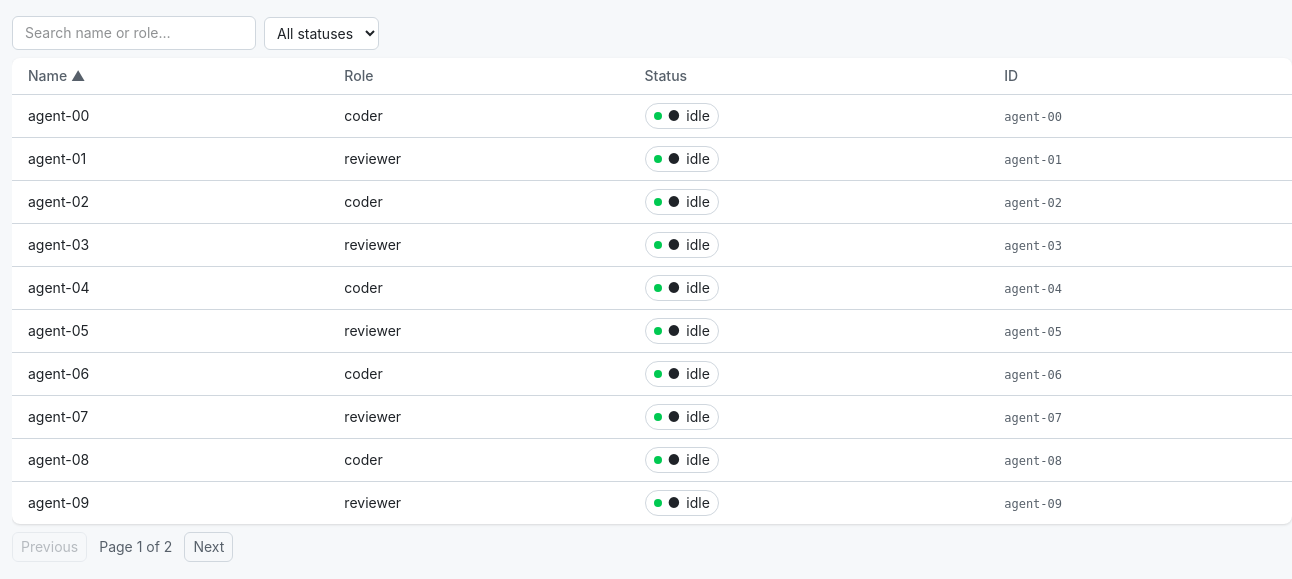
Test case: Table UX (w3-tables) › agents roster filters by search and caps pages at ten
Expected: the text "Page 1 of 2" is shown, [99,537,172,557]
Click the button "Next" at point(209, 547), box [184,532,233,562]
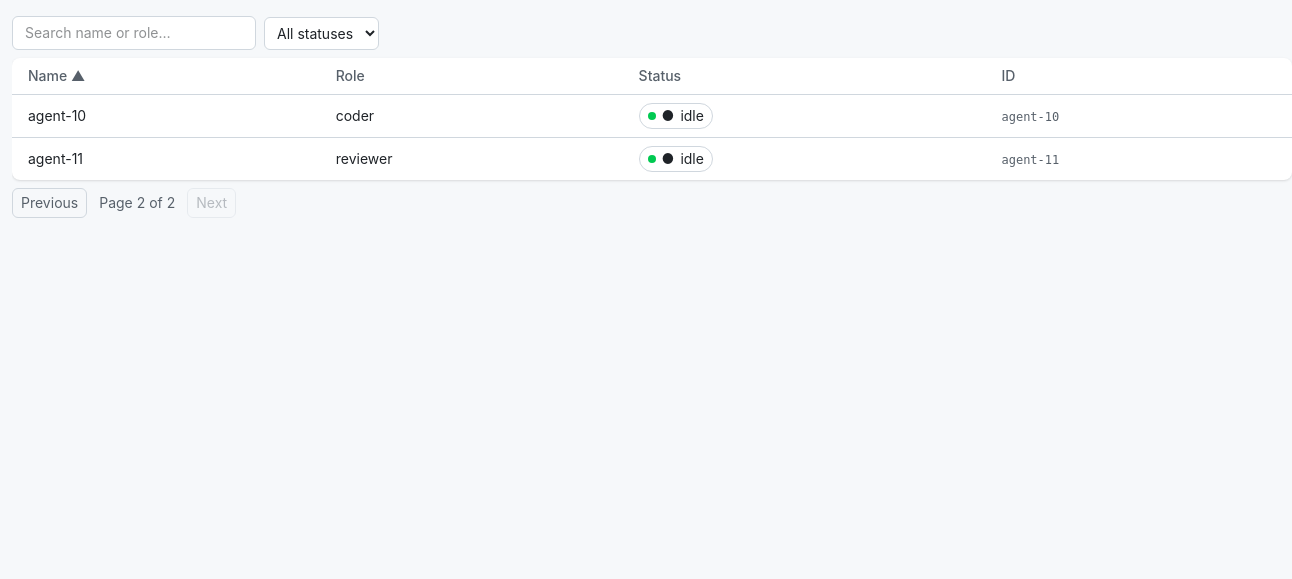
Now the text "Page 2 of 2" is shown, box [99,193,175,213]
Click the button "Previous" at point(50, 203), box [12,188,87,218]
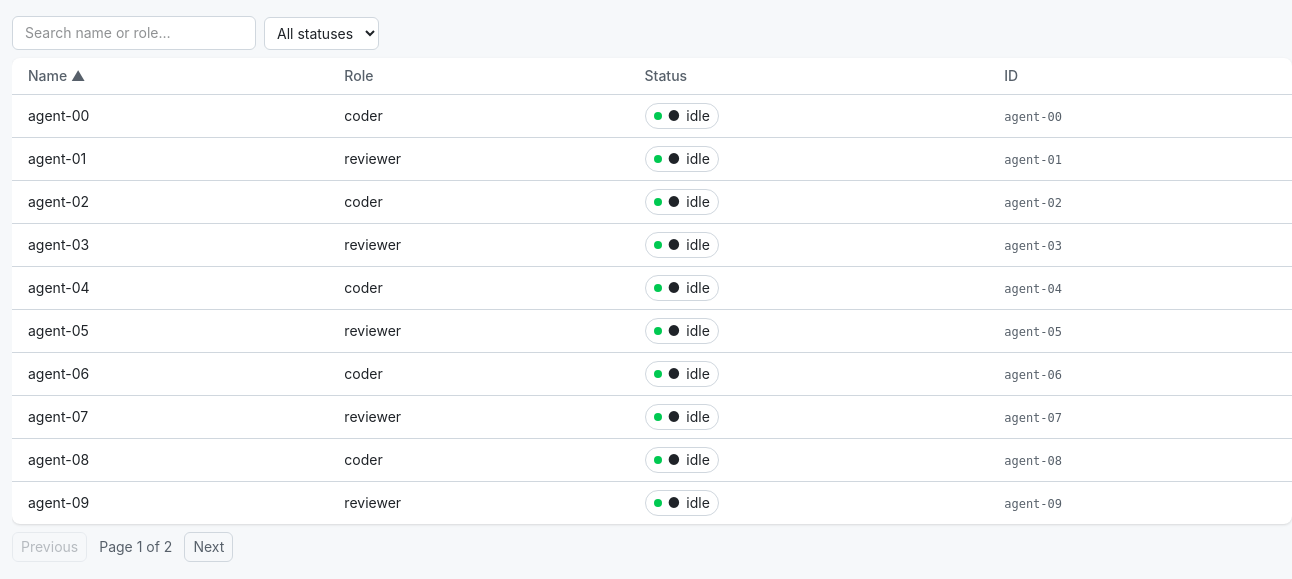
Type "agent-03" into the search field named "Search agents" at point(134, 33), box [12,16,256,50]
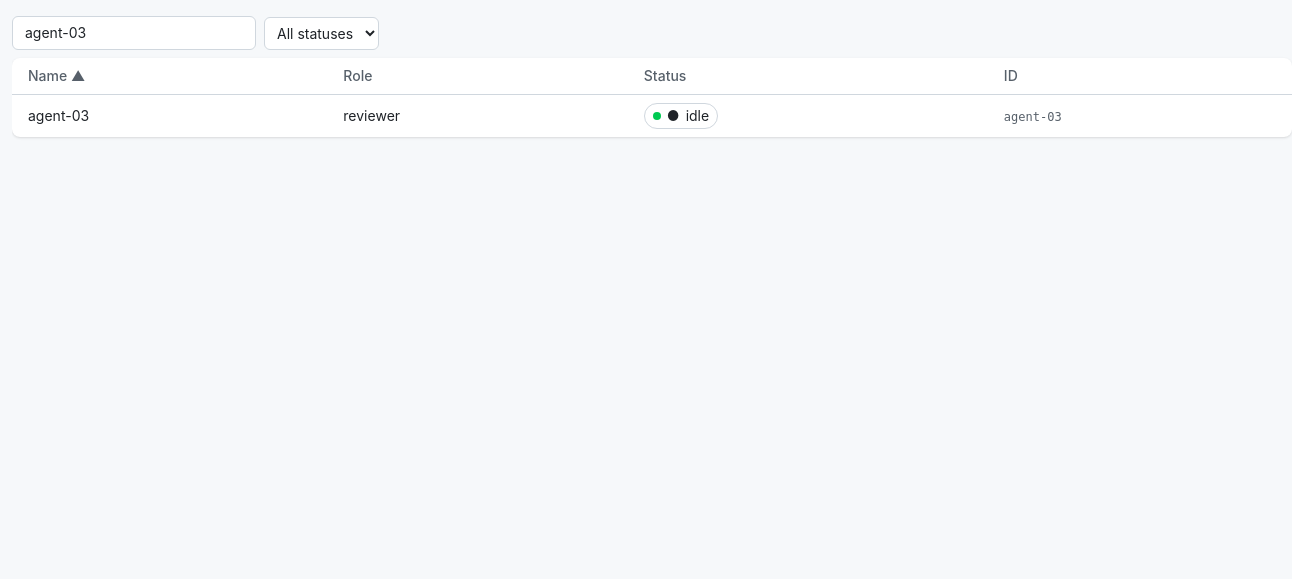
Now the link "agent-03" is shown, box [28,107,89,124]
Now the link "agent-04" is gone
